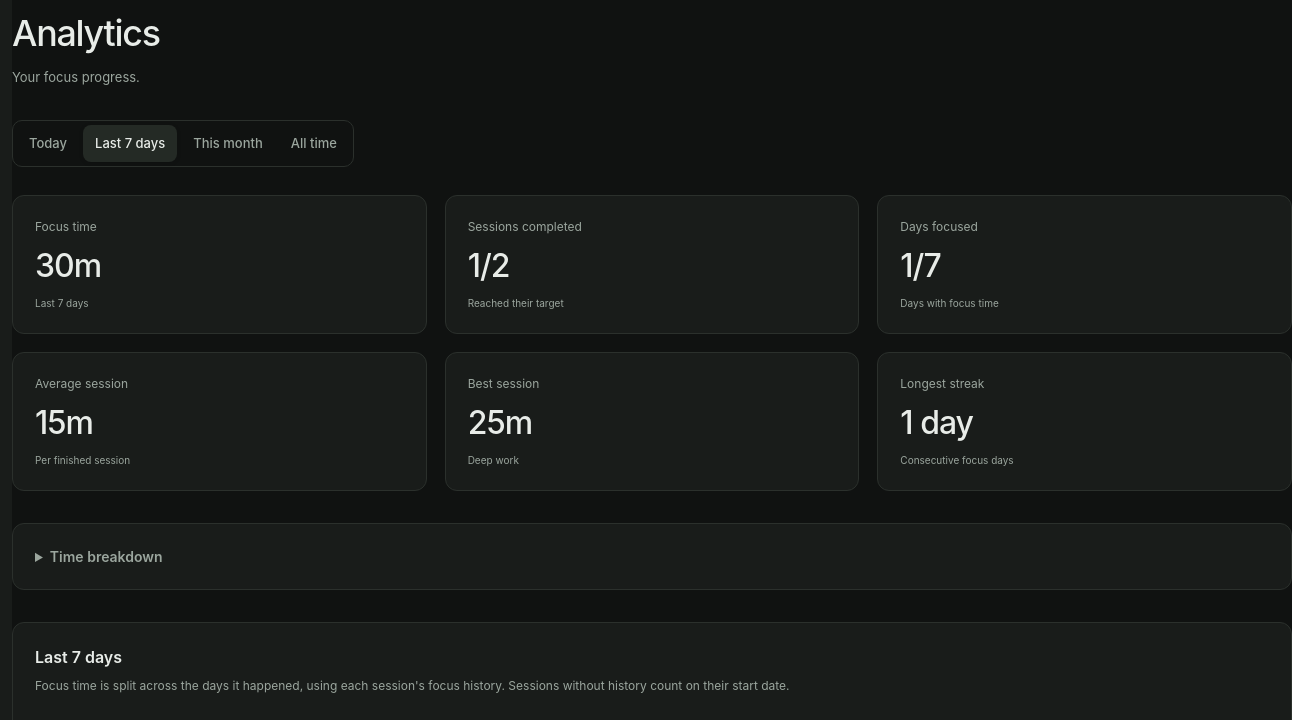
Test: Analytics page › renders six cards and follows the date filter
Check: the text "Deep work" is shown, box [468, 454, 519, 466]
Click the button "Today".
click(48, 143)  # box [17, 125, 79, 162]
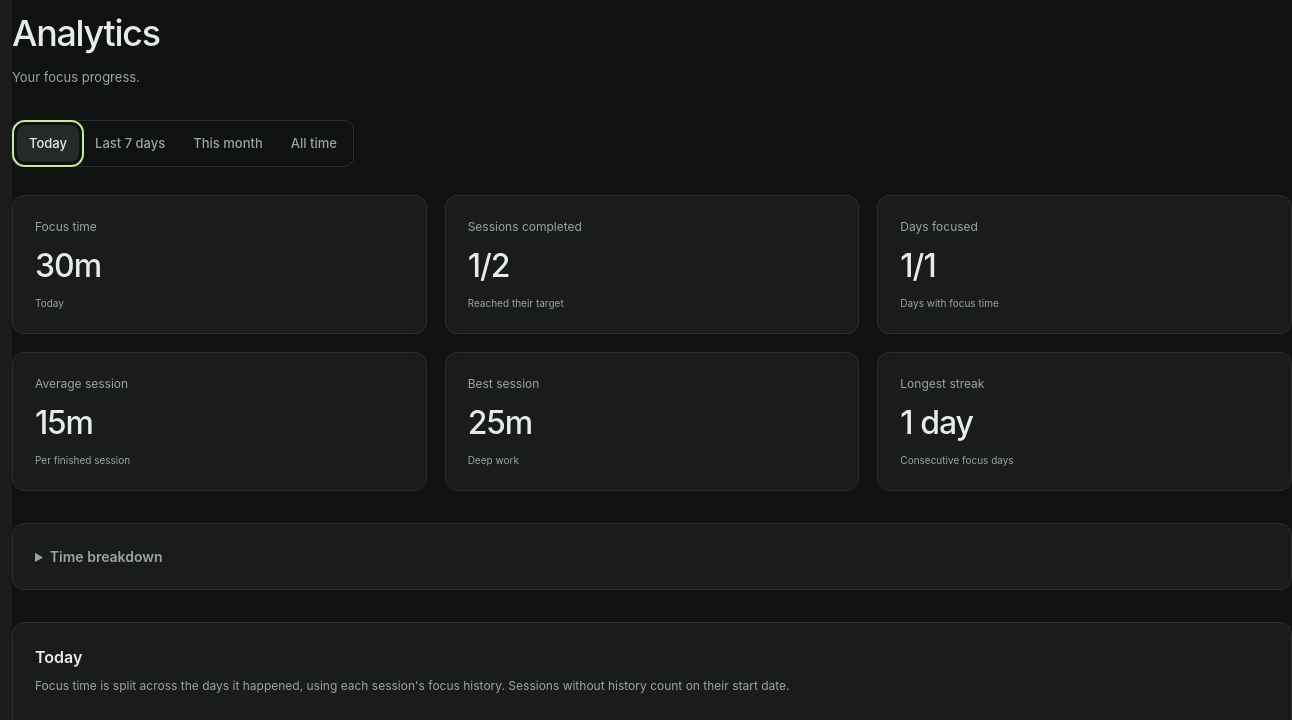
Click the button "All time".
click(314, 143)  # box [279, 125, 349, 162]
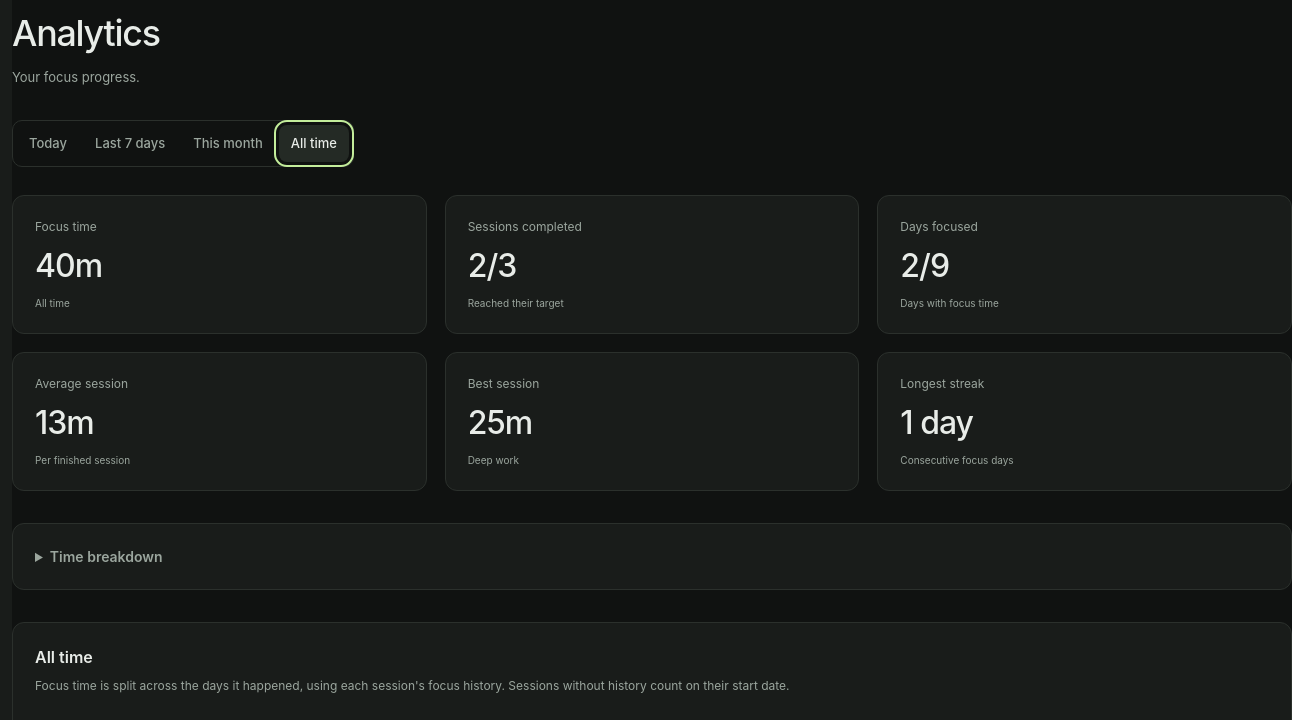
Check: the text "40m" is shown, box [35, 246, 102, 285]
